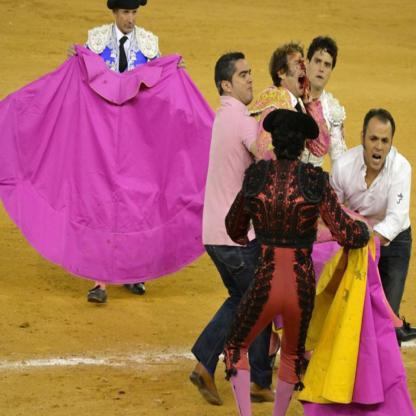face: (365, 124, 392, 171), (308, 50, 333, 88), (233, 60, 255, 102), (286, 57, 306, 96), (118, 5, 139, 34)
